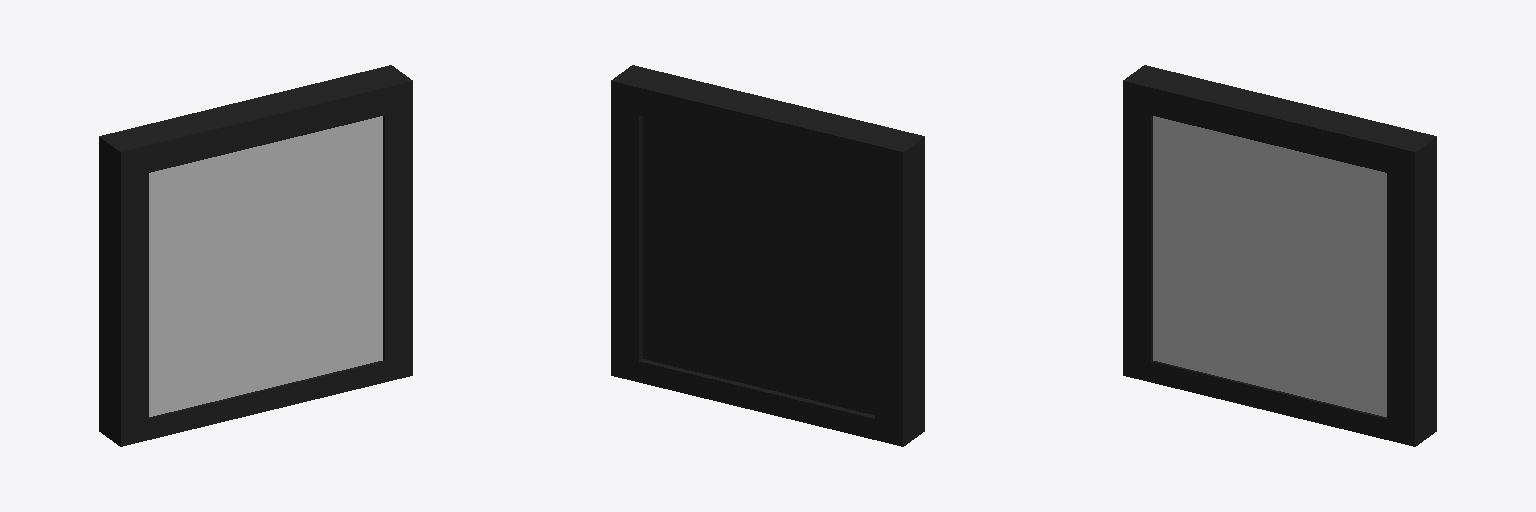
Rendered from Sign_Small_2.obj.
The picture shows the model from 3 angles: view 1: azimuth 30°, elevation 25°; view 2: azimuth 150°, elevation 25°; view 3: azimuth 330°, elevation 25°; orthographic projection.
Parts seen in each view (by area): view 1: Sign_Small_2_Cube.003; view 2: Sign_Small_2_Cube.003; view 3: Sign_Small_2_Cube.003.
Boxes of the visible parts, box(x1,y1,x2,y2) form: Sign_Small_2_Cube.003: box(99, 65, 412, 446); Sign_Small_2_Cube.003: box(611, 65, 924, 446); Sign_Small_2_Cube.003: box(1123, 65, 1436, 446).
Bounding box in the file's own units: 0.4802 × 0.4622 × 0.0618.